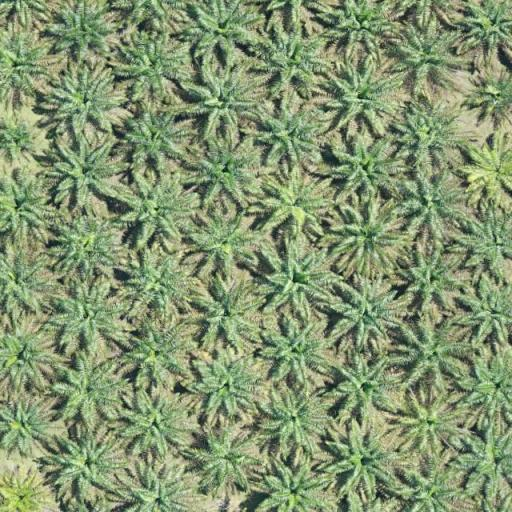Ganoderma: (0, 481, 42, 511), (479, 154, 512, 184)
